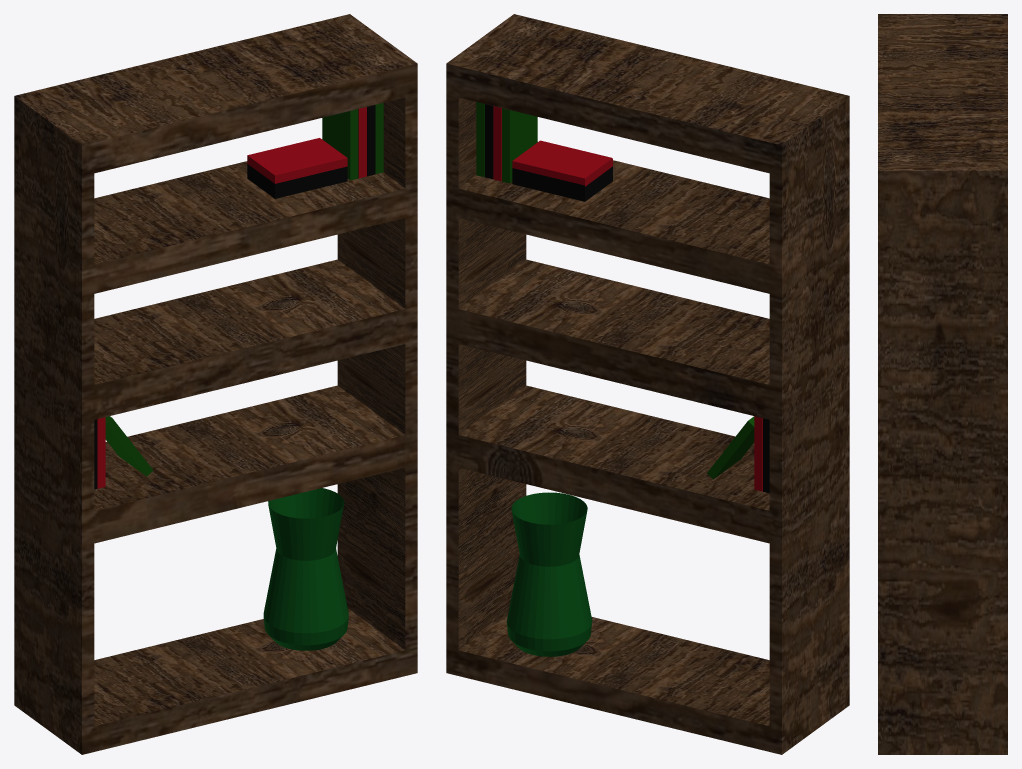
Rendered from Prateleira.fbx.
3 views of the same model, side by side, from view 1: azimuth 30°, elevation 25°; view 2: azimuth 150°, elevation 25°; view 3: azimuth 270°, elevation 25° (orthographic). The views are drawn at different scales.
Parts seen in each view (by area): view 1: Cube, Cylinder, Cube.012, Cube.009, Cube.005, Cube.010, Cube.011; view 2: Cube, Cylinder, Cube.012, Cube.009, Cube.005, Cube.010, Cube.011, Cube.004, Cube.008, Cube.007, Cube.006; view 3: Cube.
Part boxes in pixels (x1,y1,x2,y2): Cube: (14,14,417,754); Cylinder: (263,488,348,650); Cube.012: (247,138,347,183); Cube.009: (322,109,358,180); Cube.005: (105,416,153,476); Cube.010: (247,171,347,198); Cube.011: (247,164,347,190); Cube: (446,14,849,754); Cylinder: (507,492,592,656); Cube.012: (512,140,612,186); Cube.009: (502,108,537,183); Cube.005: (707,416,754,479); Cube.010: (512,174,612,201); Cube.011: (512,166,612,193); Cube.004: (754,416,762,491); Cube.008: (493,106,501,181); Cube.007: (485,104,493,179); Cube.006: (476,102,484,177); Cube: (878,14,1007,754).
Size of the model in its own units: 200 by 347 by 69.89.
Materials: 5 (1 with a texture image).
